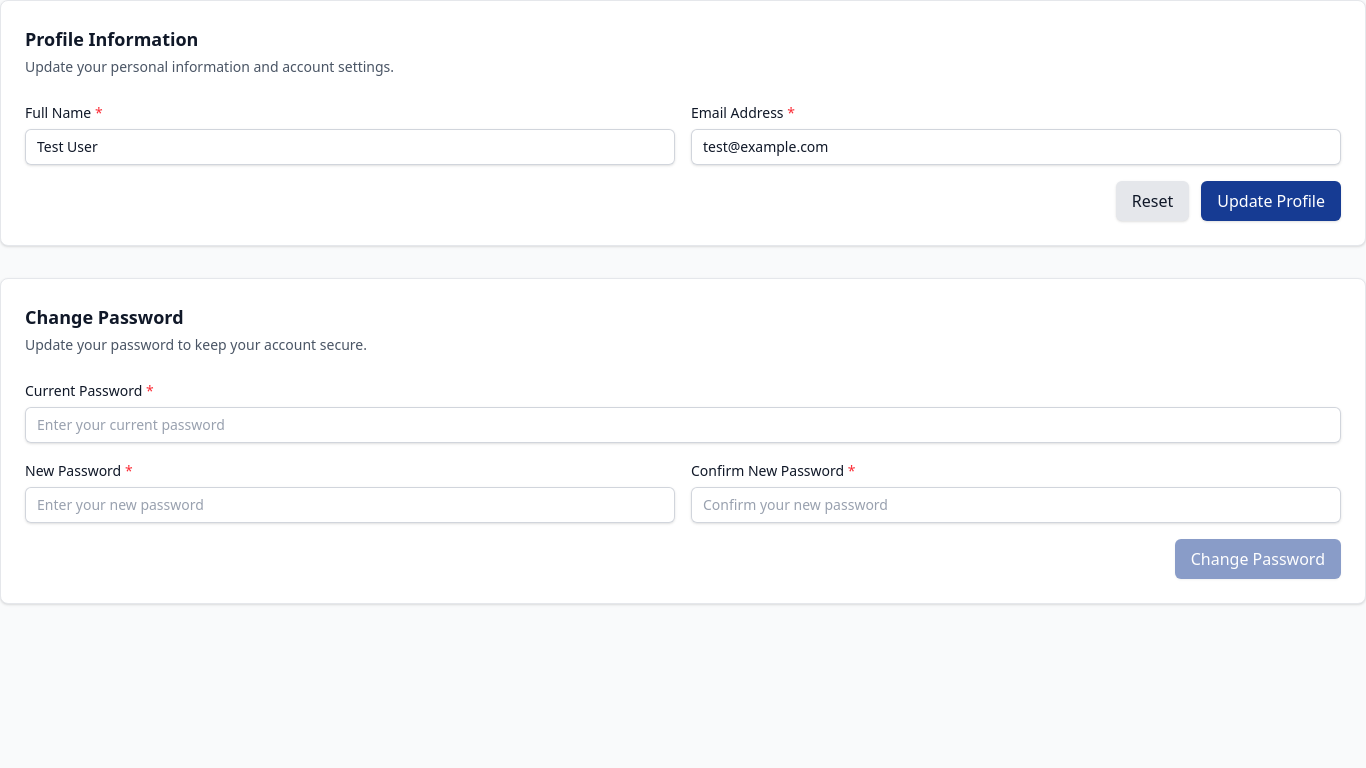
Scenario: ProfileSettings › Profile Information Form › should display success message after successful update
The width and height of the screenshot is (1366, 768).
Step 1. Replace the text in the field with test id "profile-name-input" with "New Name" → (350, 147), box [25, 129, 675, 165]
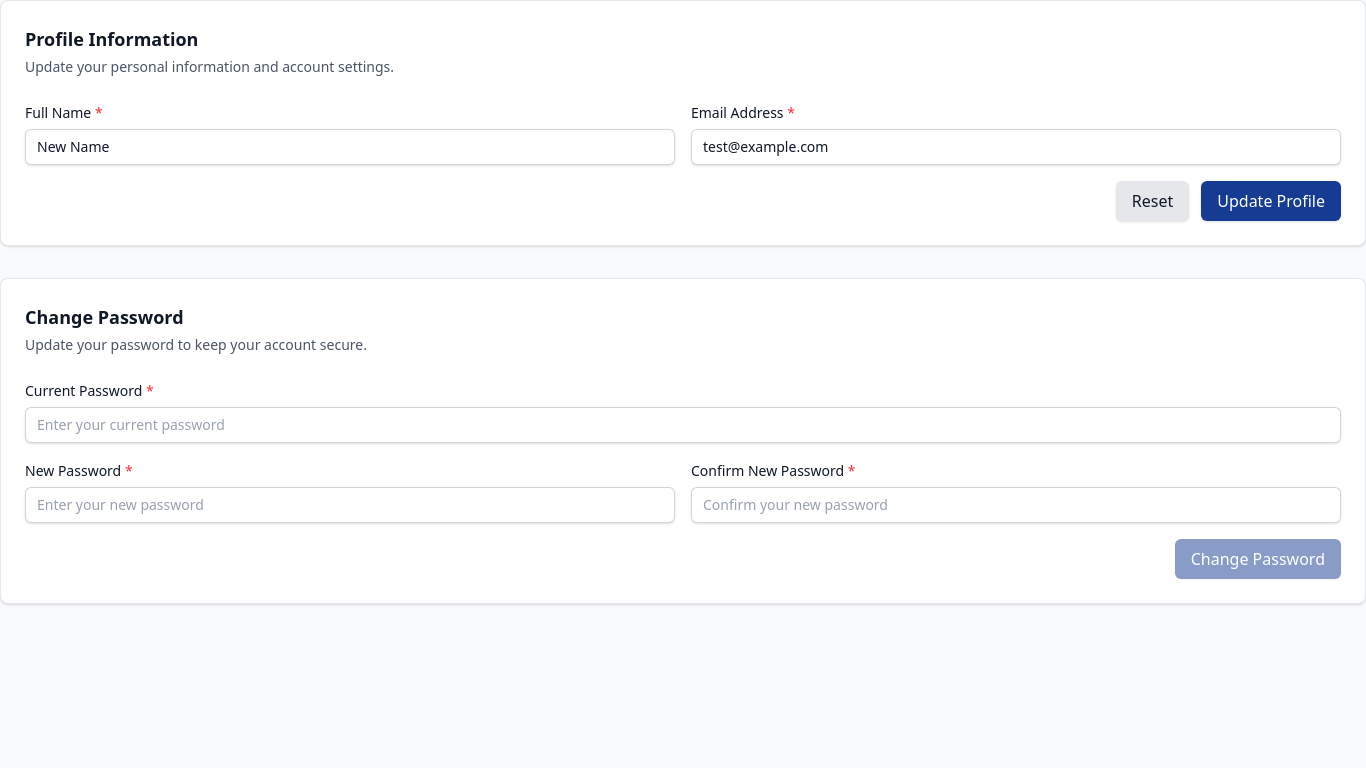
Step 2. Click the button "Update Profile" → (1271, 201), box [1201, 181, 1341, 221]
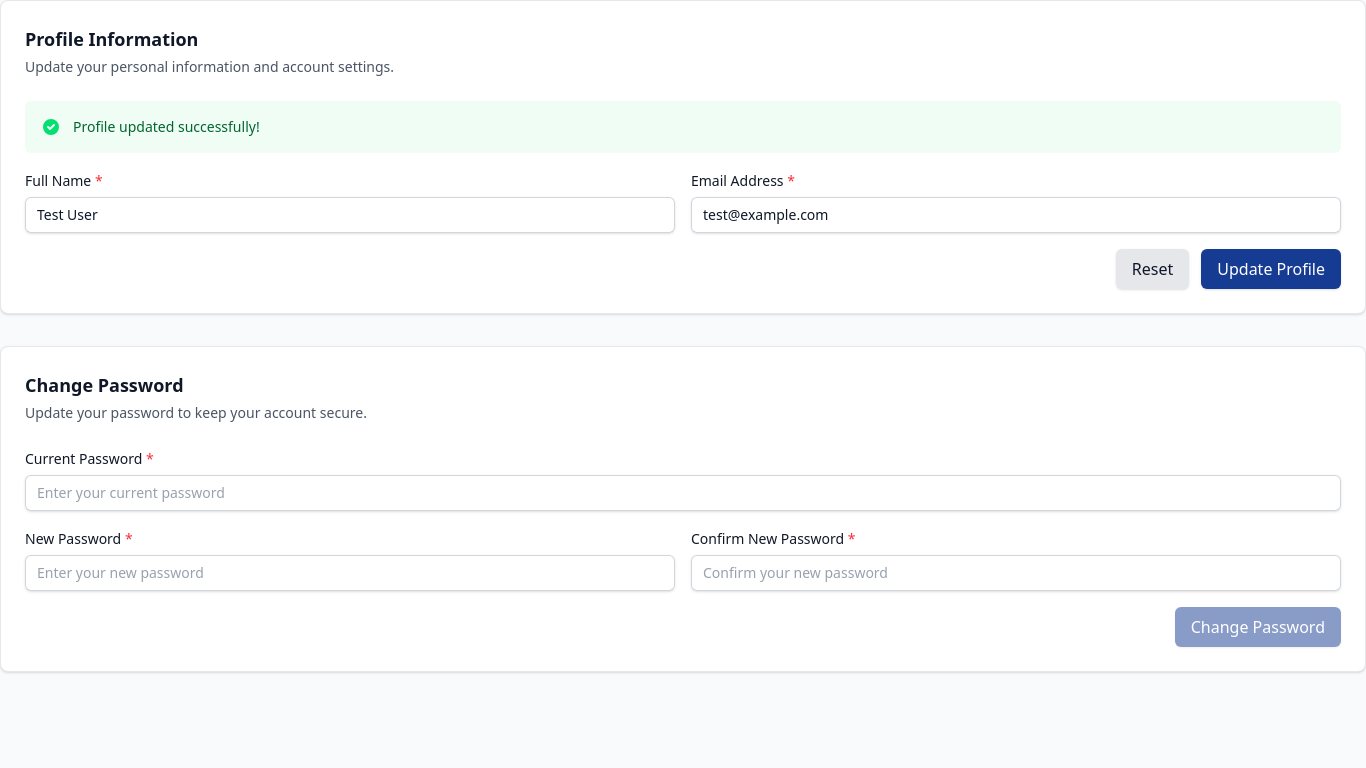
Result: the text "Profile updated successfully!" is shown at [73, 117, 260, 137]
